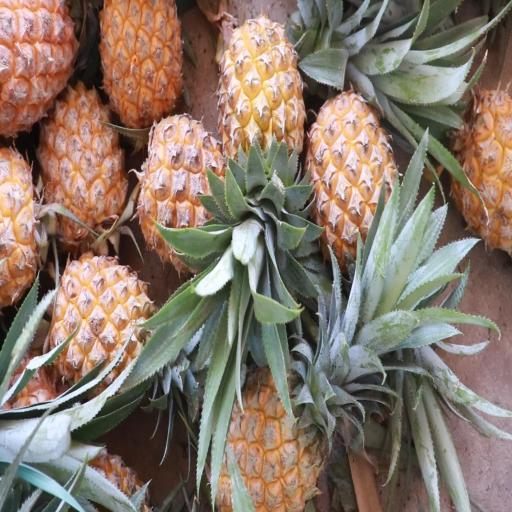Pineapple - v8 v1: (202, 345, 350, 512), (305, 84, 408, 279), (216, 12, 309, 208), (47, 246, 162, 404), (134, 111, 237, 280), (36, 75, 133, 252), (96, 0, 186, 135), (446, 84, 512, 262), (0, 1, 81, 144), (0, 135, 53, 313)
